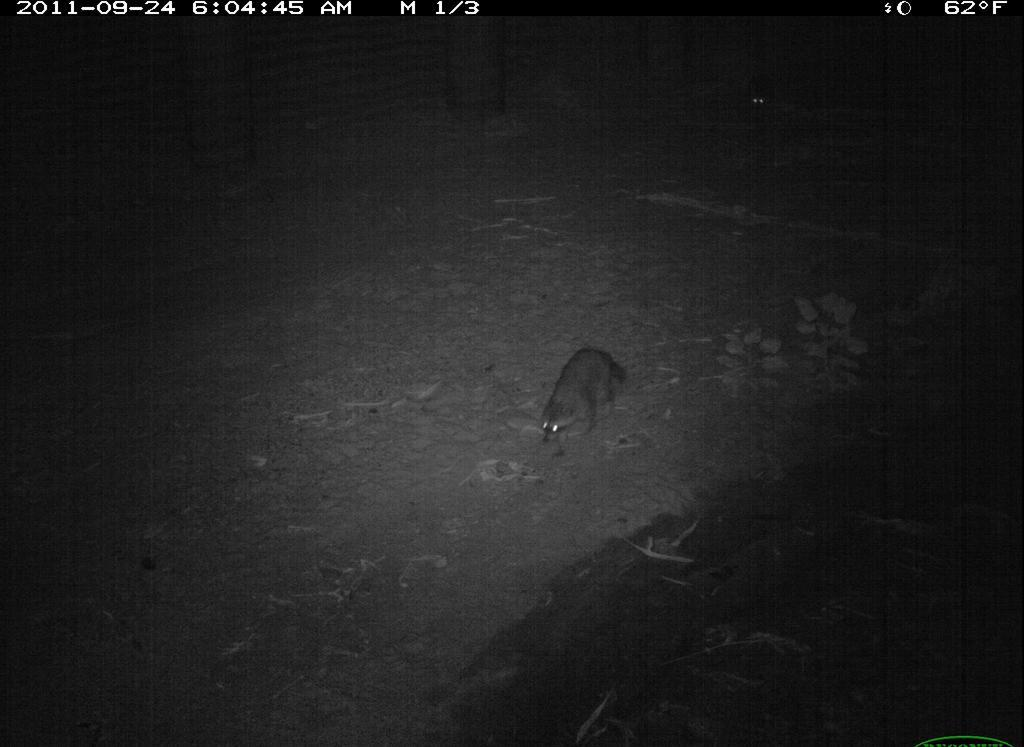raccoon: (533, 335, 638, 461)
